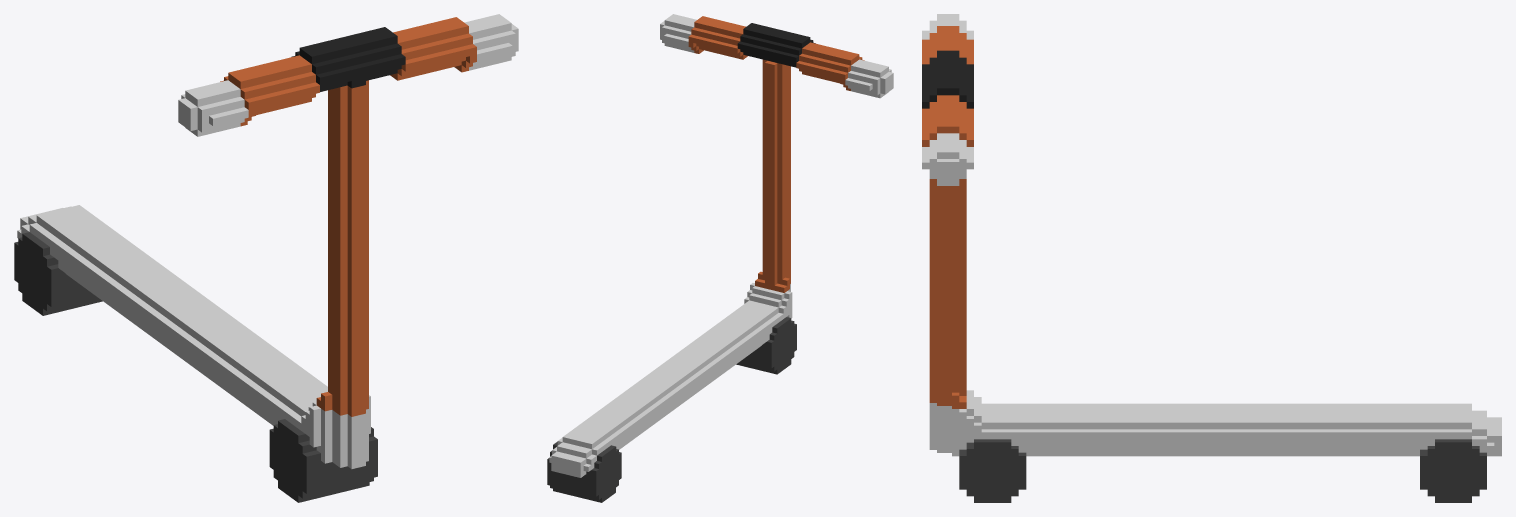
File: Board.FBX
3 views of the same model, side by side, from view 1: azimuth 30°, elevation 25°; view 2: azimuth 150°, elevation 25°; view 3: azimuth 270°, elevation 25° (orthographic). The views are drawn at different scales.
Visible parts, largest first — view 1: Board; view 2: Board; view 3: Board.
Boxes of the visible parts, x1,y1,x2,y2 form: Board: (14, 14, 518, 502); Board: (547, 14, 893, 502); Board: (922, 14, 1501, 502).
Bounding box in the file's own units: 4.6 × 6.2 × 7.8.
1 material, 1 textured.
